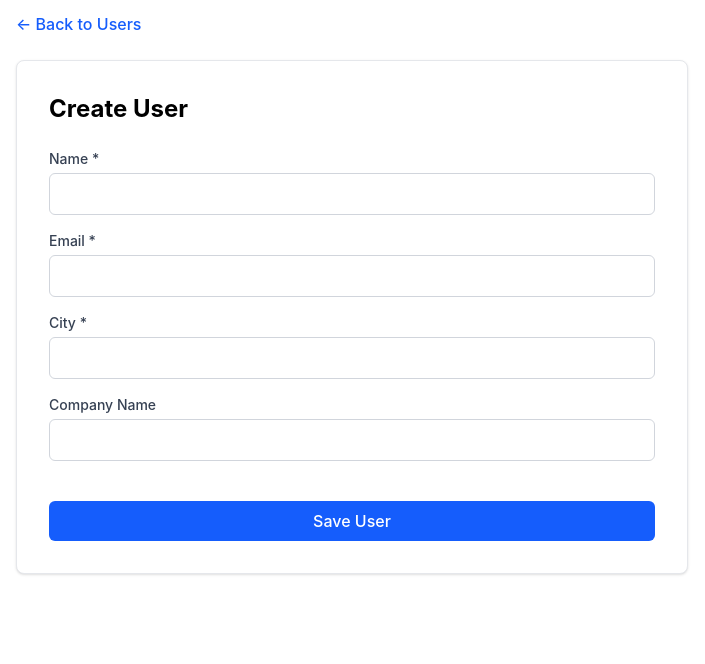
Test case: UserForm Validation › shows email format error for invalid email
This screenshot has width=705, height=664.
Type "zly-format-maila" into the field named "email" below "Email *" at (352, 276), box 49,255 -> 655,297
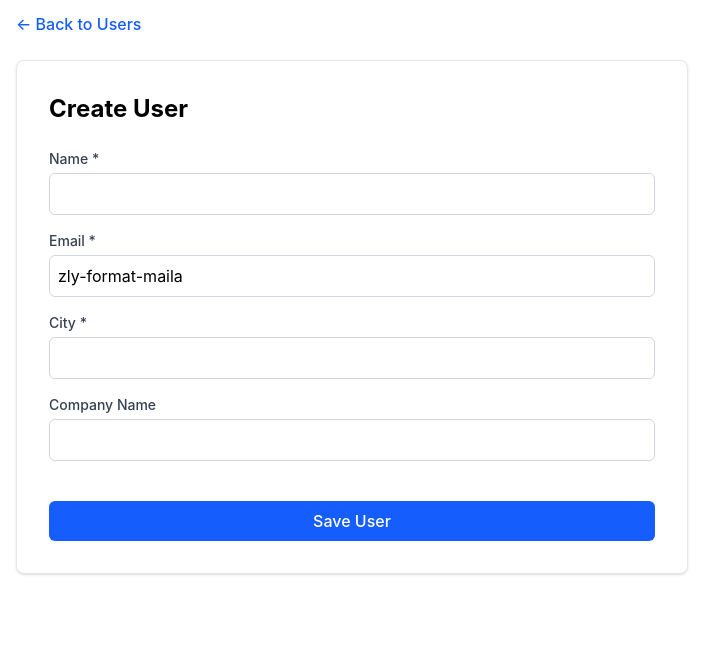
Click the button "Save User" at (352, 521), box 49,501 -> 655,541
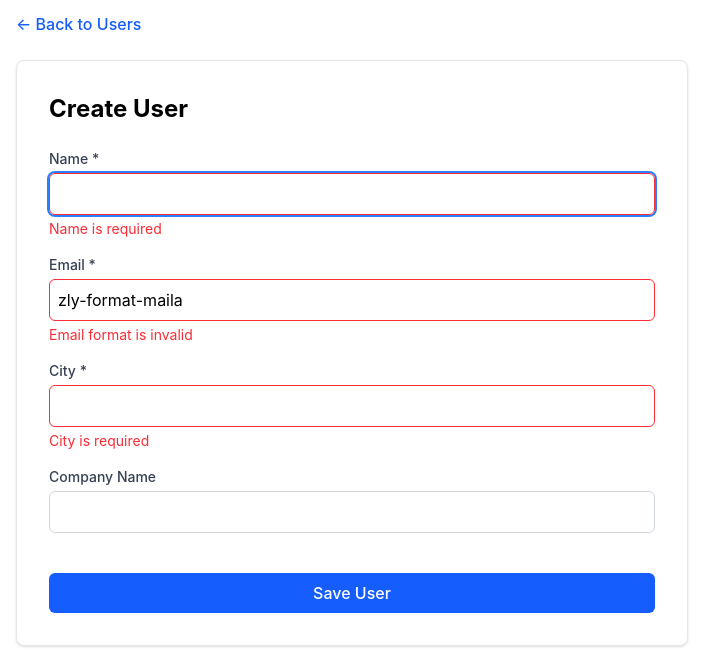
expect the text "Email format is invalid" is shown: met, box 49,326 -> 193,343
